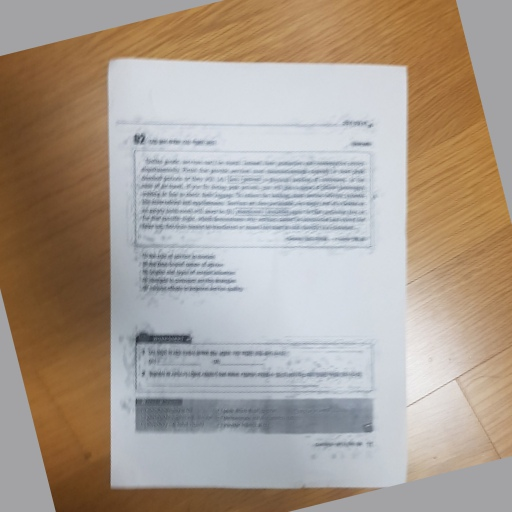Paper_2: (104, 50, 420, 495)
